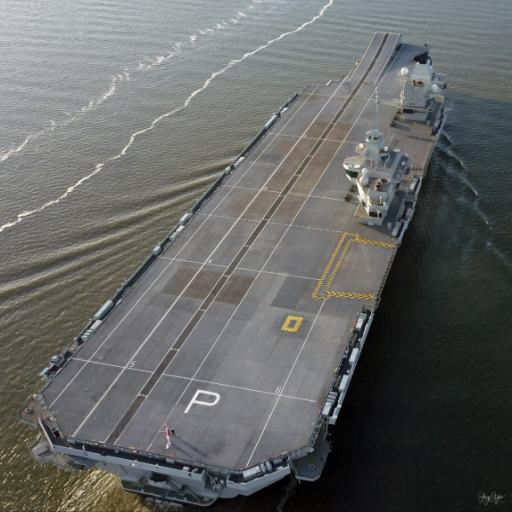Portanaves: (19, 28, 455, 506)
